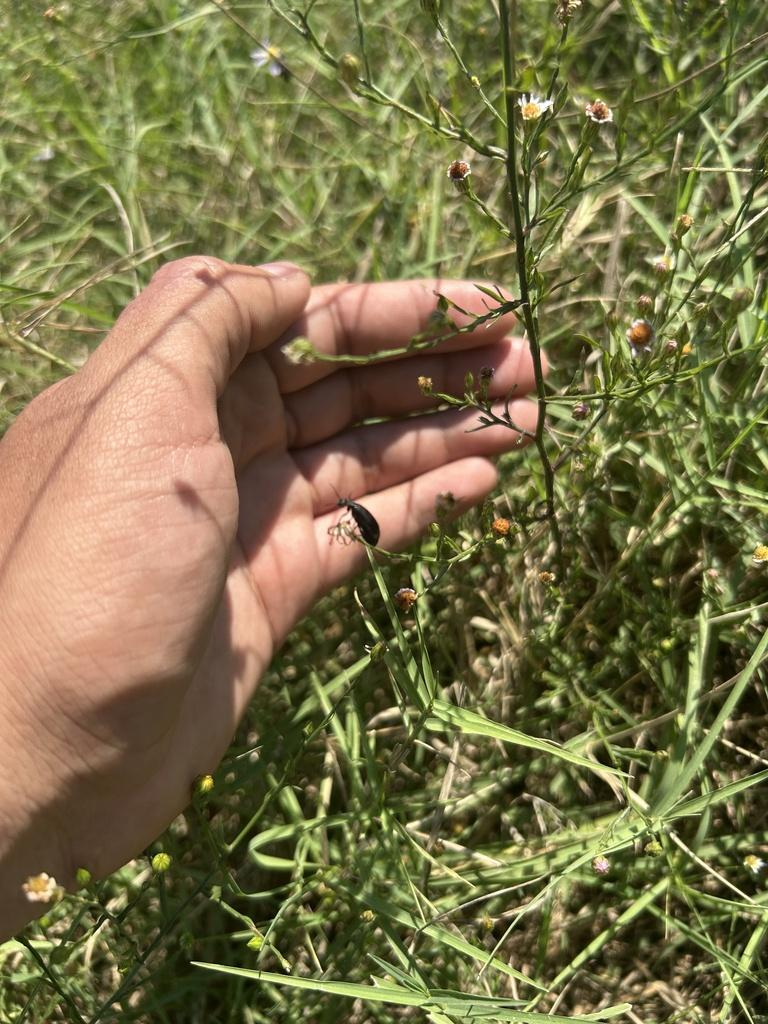blister_beetle: (311, 458, 393, 557)
